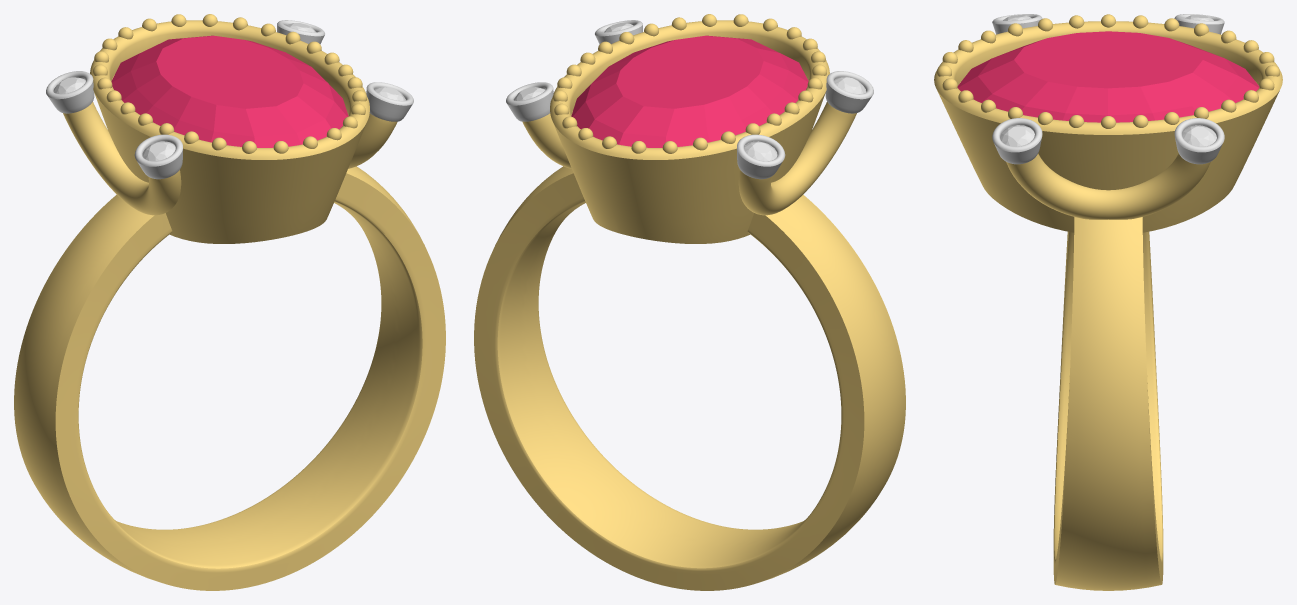
Rendered from CarolynRubyRing_blender.glb.
3 renders of one model, left to right at view 1: azimuth 30°, elevation 25°; view 2: azimuth 150°, elevation 25°; view 3: azimuth 270°, elevation 25°, orthographic.
Visible parts, largest first — view 1: Carolyn YG for 3d model, Carolyn ruby for 3d model, Carolyn PT for 3d model; view 2: Carolyn YG for 3d model, Carolyn ruby for 3d model, Carolyn PT for 3d model; view 3: Carolyn YG for 3d model, Carolyn ruby for 3d model, Carolyn PT for 3d model, Carolyn dia for 3d model, Carolyn dia for 3d model.001.
Boxes of the visible parts, x1=… form: Carolyn YG for 3d model: x1=14, y1=14, x2=445, y2=590; Carolyn ruby for 3d model: x1=111, y1=35, x2=348, y2=147; Carolyn PT for 3d model: x1=46, y1=20, x2=413, y2=179; Carolyn YG for 3d model: x1=474, y1=14, x2=905, y2=590; Carolyn ruby for 3d model: x1=571, y1=35, x2=808, y2=147; Carolyn PT for 3d model: x1=506, y1=20, x2=873, y2=179; Carolyn YG for 3d model: x1=934, y1=14, x2=1282, y2=590; Carolyn ruby for 3d model: x1=957, y1=31, x2=1259, y2=122; Carolyn PT for 3d model: x1=992, y1=14, x2=1224, y2=164; Carolyn dia for 3d model: x1=1000, y1=125, x2=1034, y2=146; Carolyn dia for 3d model.001: x1=1182, y1=125, x2=1216, y2=146.
Bounding box in the file's own units: 21.56 × 25.58 × 15.9.
